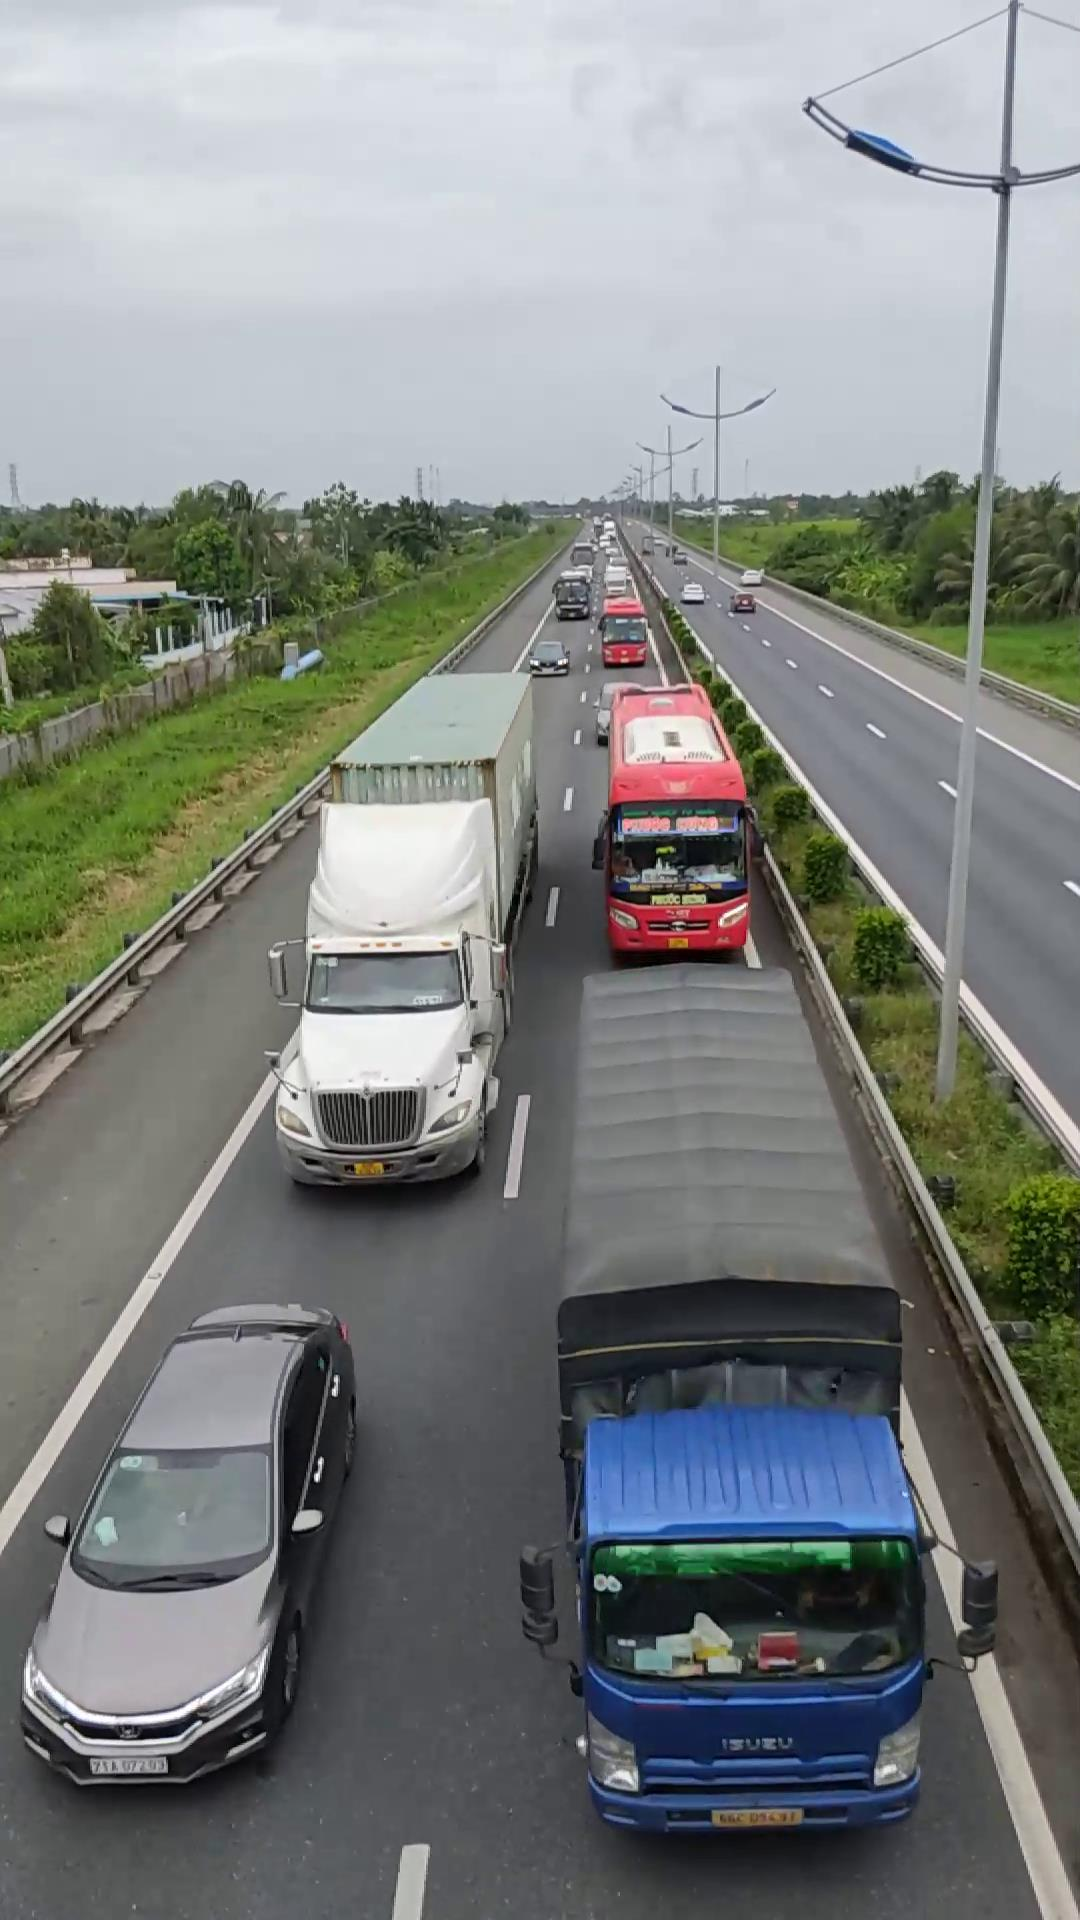bus: (593, 676, 758, 959)
car: (15, 1302, 363, 1785)
container: (272, 661, 535, 1189)
